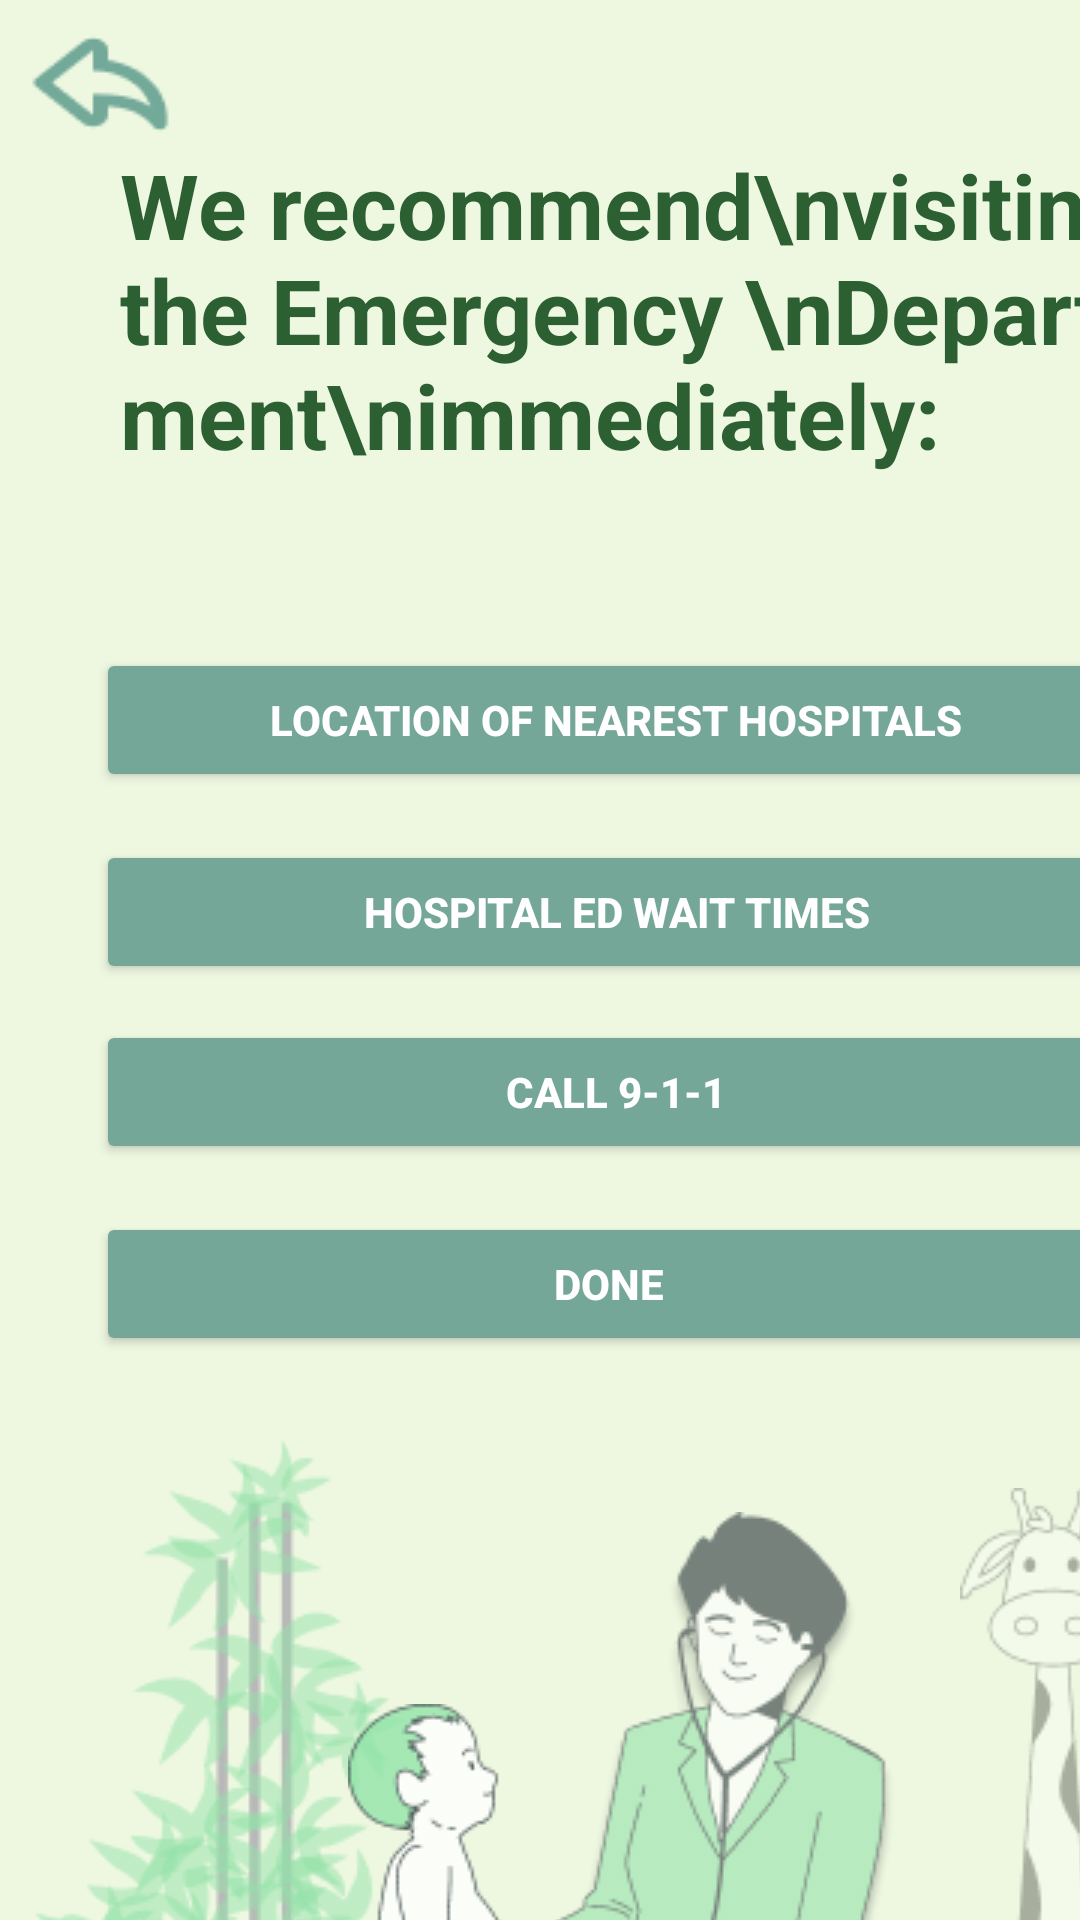

Icon click points for this 1080×1920 phone screenshot, format (x,y):
arrowback: (100,84)
